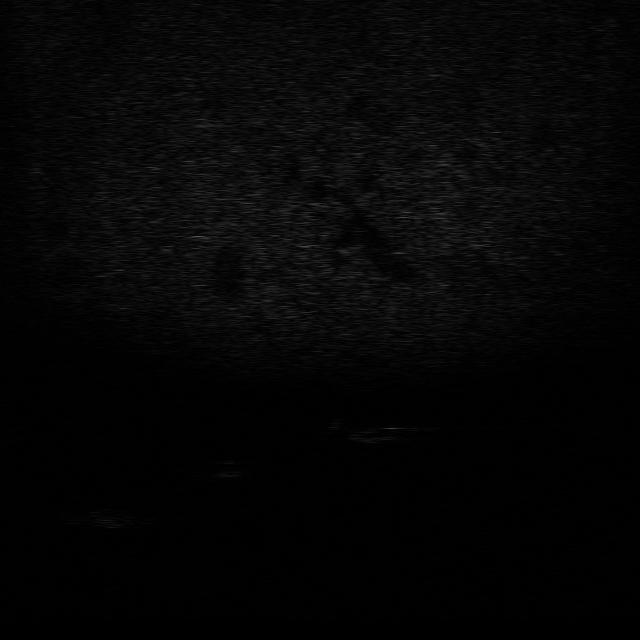ball: (198, 455, 248, 482)
circle cage: (58, 502, 138, 531)
human body: (315, 415, 430, 446)
